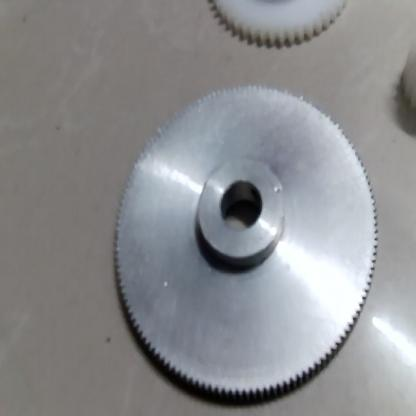FOD: (105, 75, 383, 415), (212, 0, 350, 52)
